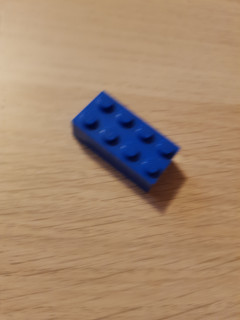2x4 blue: (70, 91, 181, 190)
